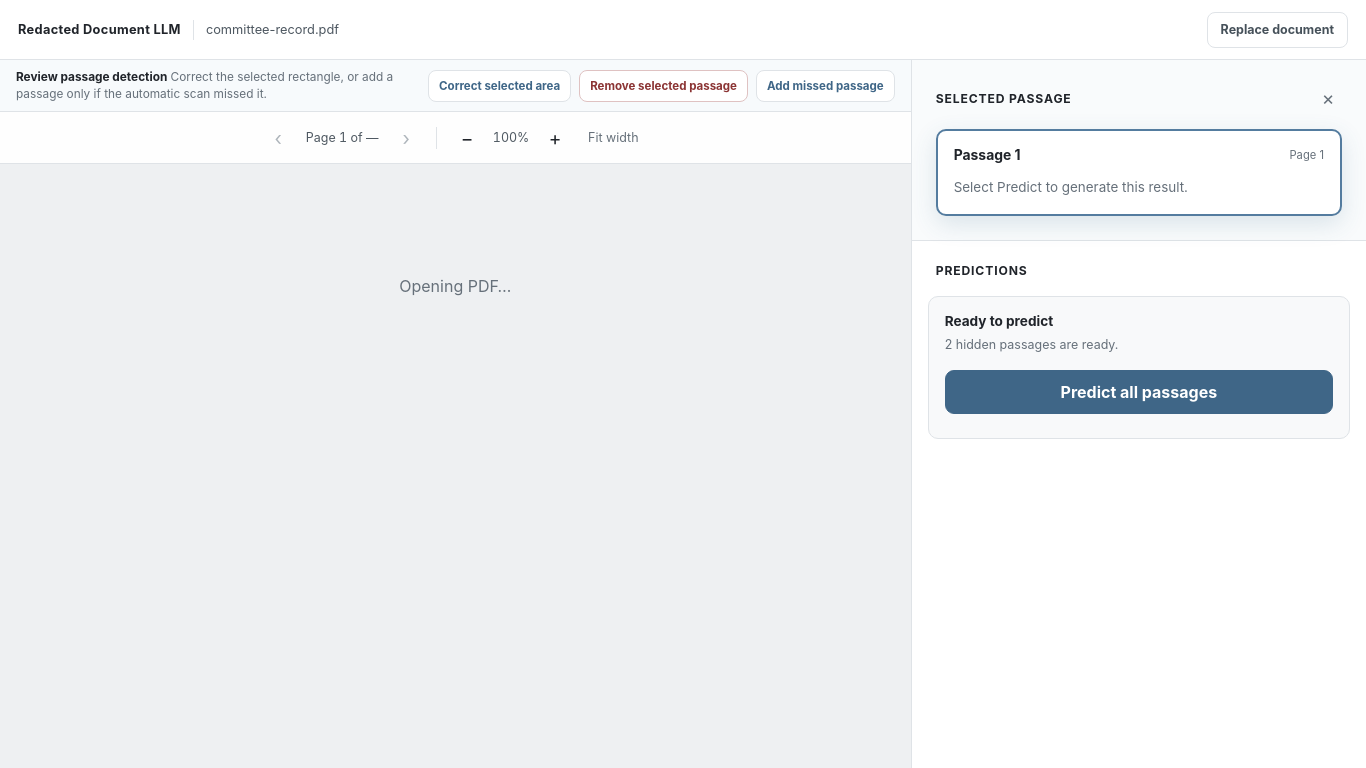
DocumentWorkspace › schedules one full run and retains progressive results for every passage
The width and height of the screenshot is (1366, 768).
Step 1. Click the button "Predict all passages" → click(1139, 392), box [945,370,1333,414]
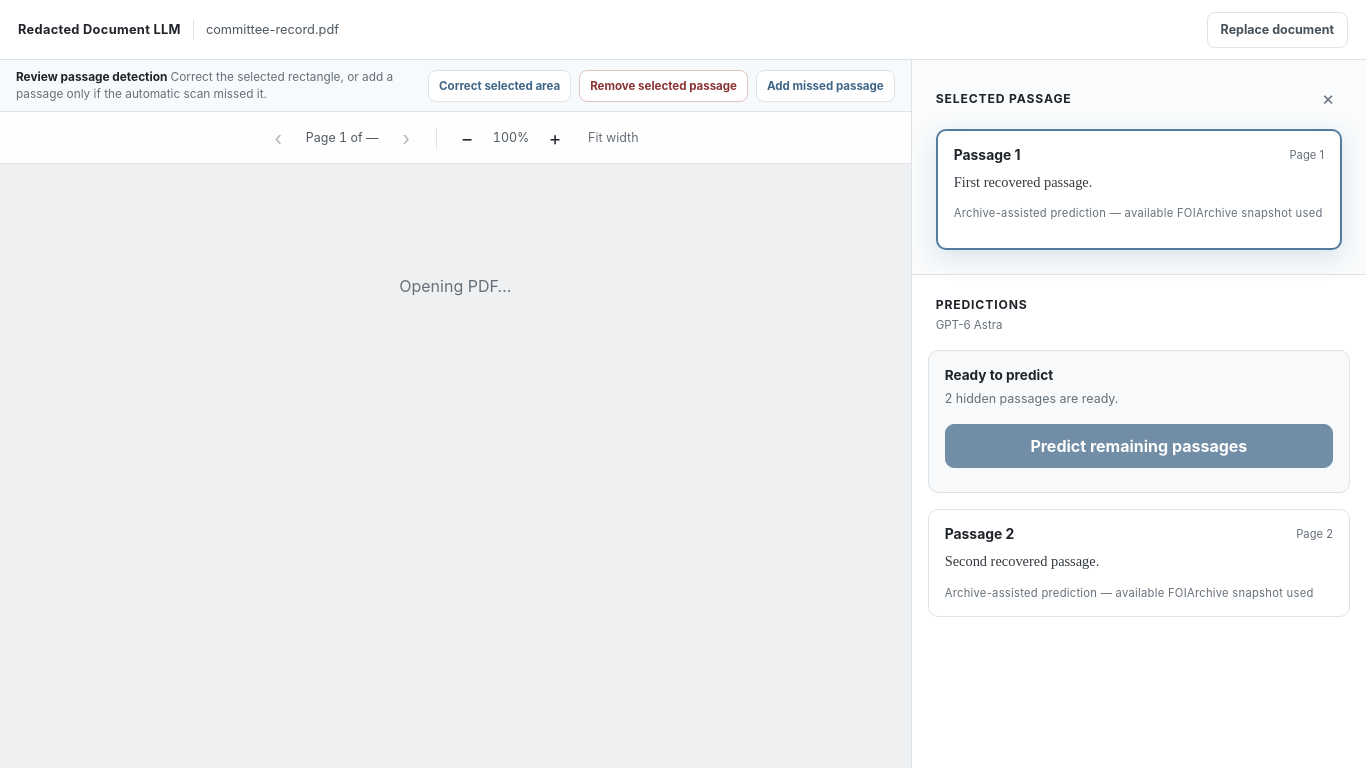
Check: the text "Second recovered passage." is shown, box [945,553,1099,569]
Check: the text "First recovered passage." is shown, box [954,174,1092,190]
